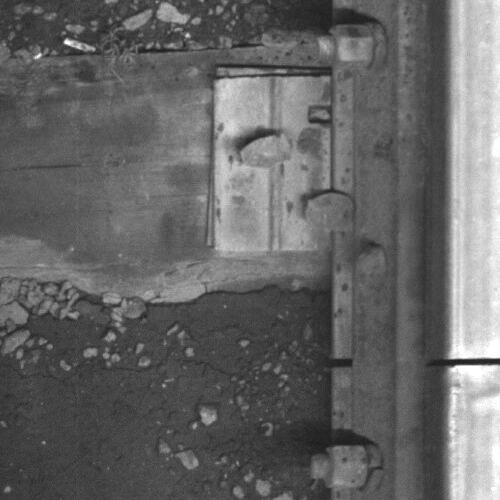do: (211, 73, 356, 253)
joint: (426, 357, 500, 368)
rail: (449, 1, 500, 500)
tie_wood: (1, 56, 333, 279)
